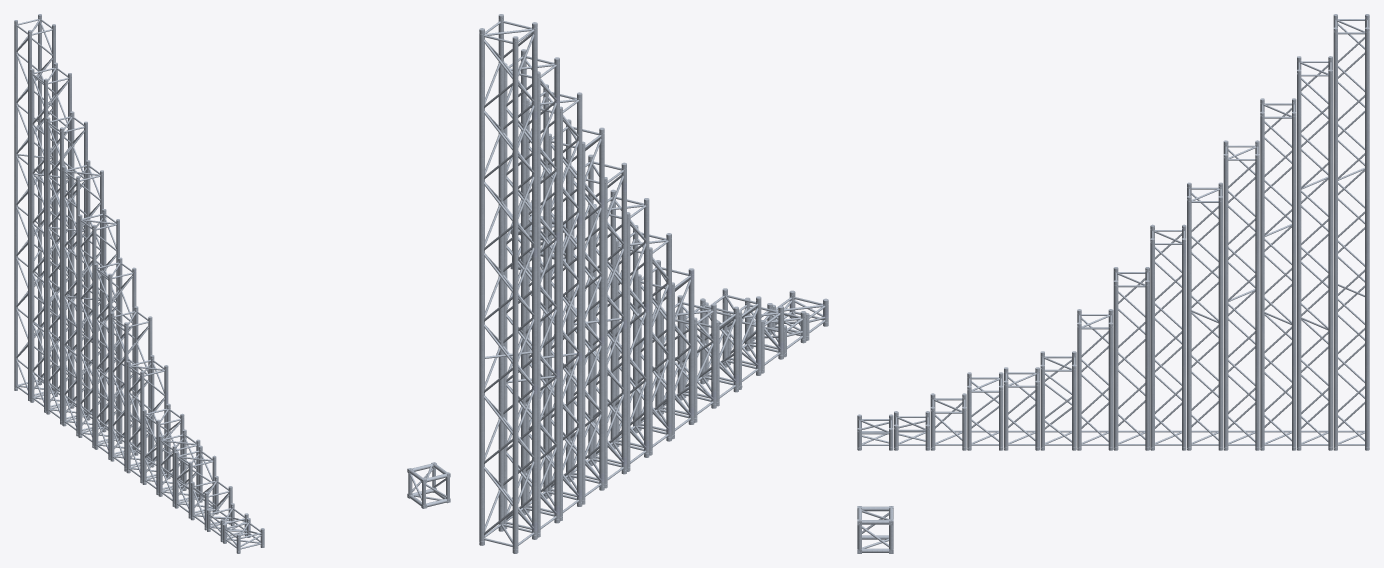
The model's file is Prolyte_H40V_Lengths-0a6f329e.glb.
3 renders of one model, left to right at view 1: azimuth 30°, elevation 25°; view 2: azimuth 150°, elevation 25°; view 3: azimuth 270°, elevation 25°, orthographic. The views are drawn at different scales.
Bounding box in the file's own units: 3.11 × 5.16 × 5.68.
Materials: 2 (1 with a texture image).
